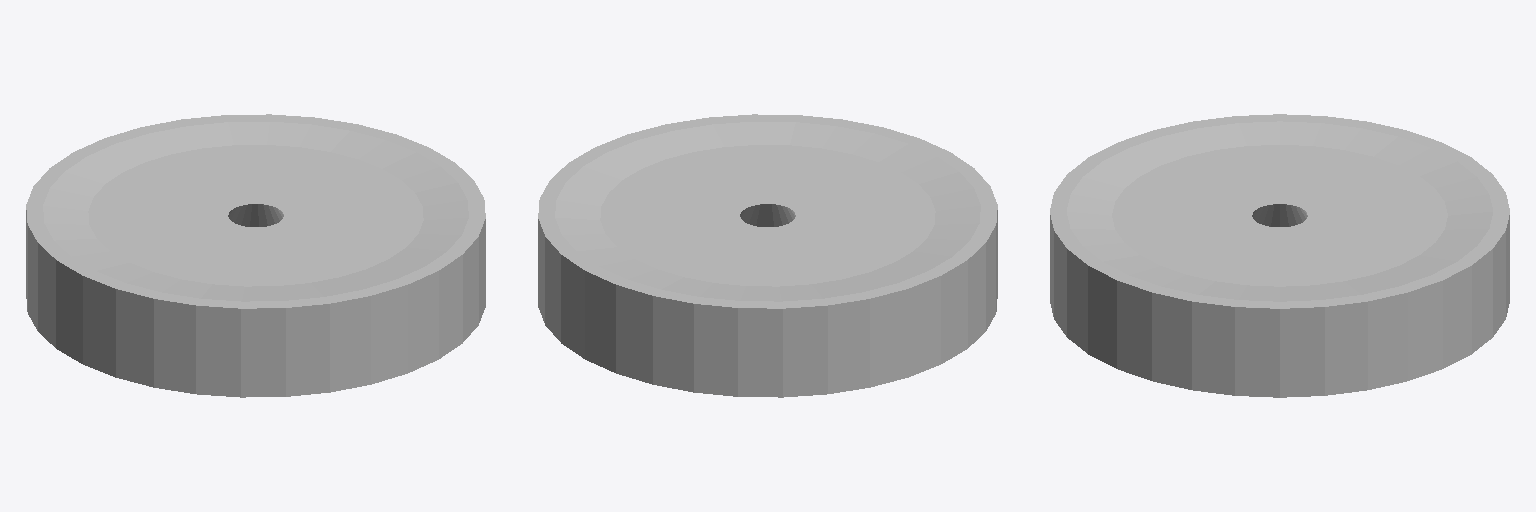
Rendered from inner_ring.obj.
The picture shows the model from 3 angles: view 1: azimuth 30°, elevation 25°; view 2: azimuth 150°, elevation 25°; view 3: azimuth 270°, elevation 25°; orthographic projection.
Visible parts, largest first — view 1: Cylinder; view 2: Cylinder; view 3: Cylinder.
Boxes of the visible parts, x1=… form: Cylinder: x1=26, y1=114, x2=485, y2=397; Cylinder: x1=538, y1=114, x2=997, y2=397; Cylinder: x1=1050, y1=114, x2=1509, y2=397.
Bounding box in the file's own units: 9.4 × 2 × 9.4.